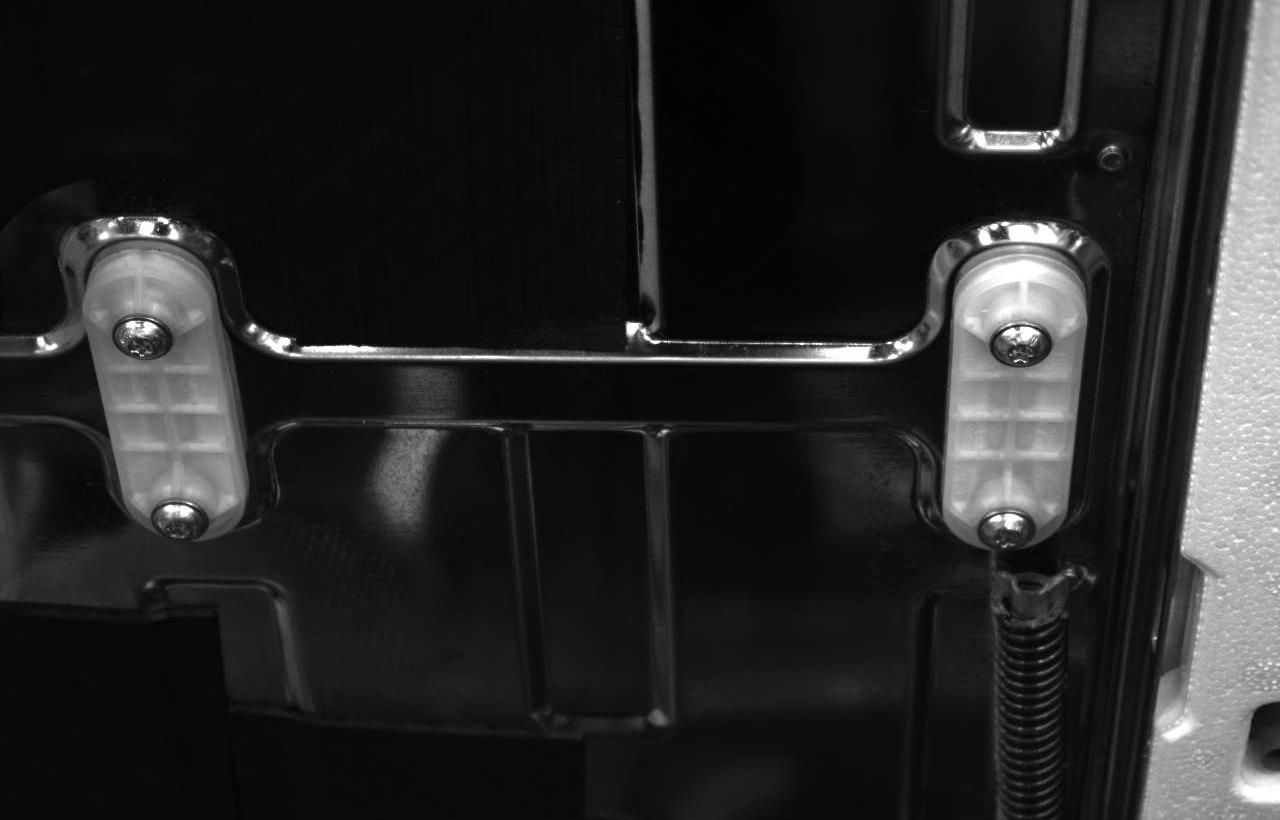vida-ok: (107, 305, 179, 372), (989, 314, 1056, 381), (973, 495, 1039, 554), (149, 489, 214, 548)
